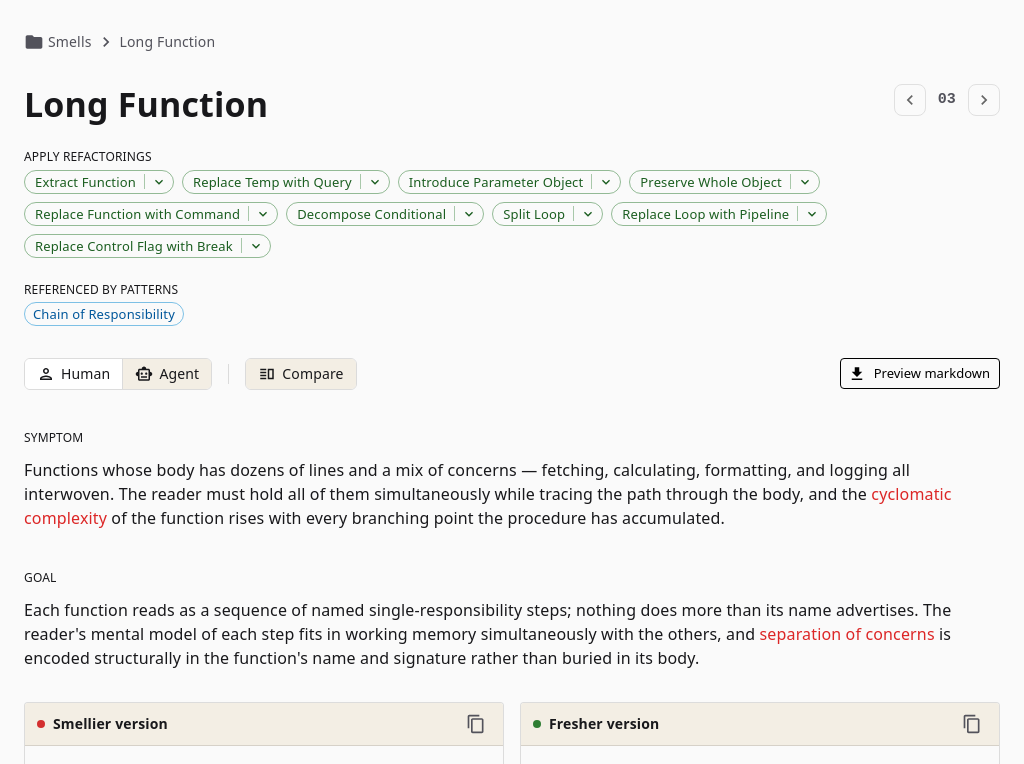
Scenario: user drills three levels deep via the chevron without losing chevrons › renders chevrons on chips inside a popover inside a popover
Click the button named "Extract Function cross-references": point(159, 182) [145, 171, 173, 193]
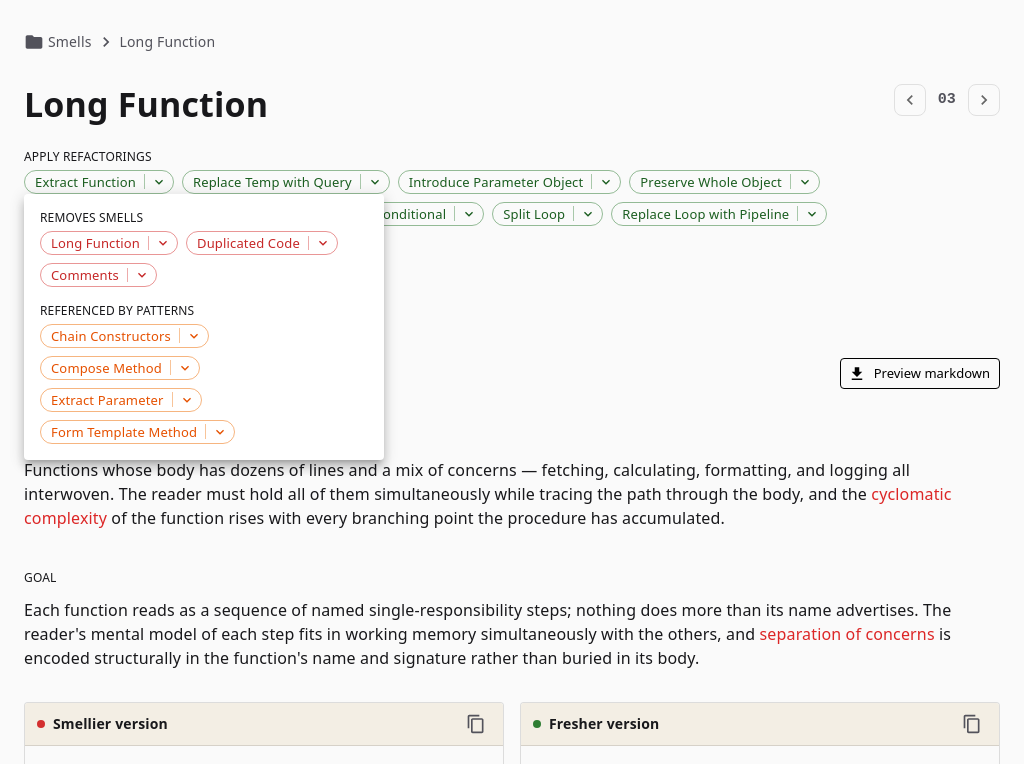
Click the button named "Long Function cross-references": point(163, 243) [149, 232, 177, 254]
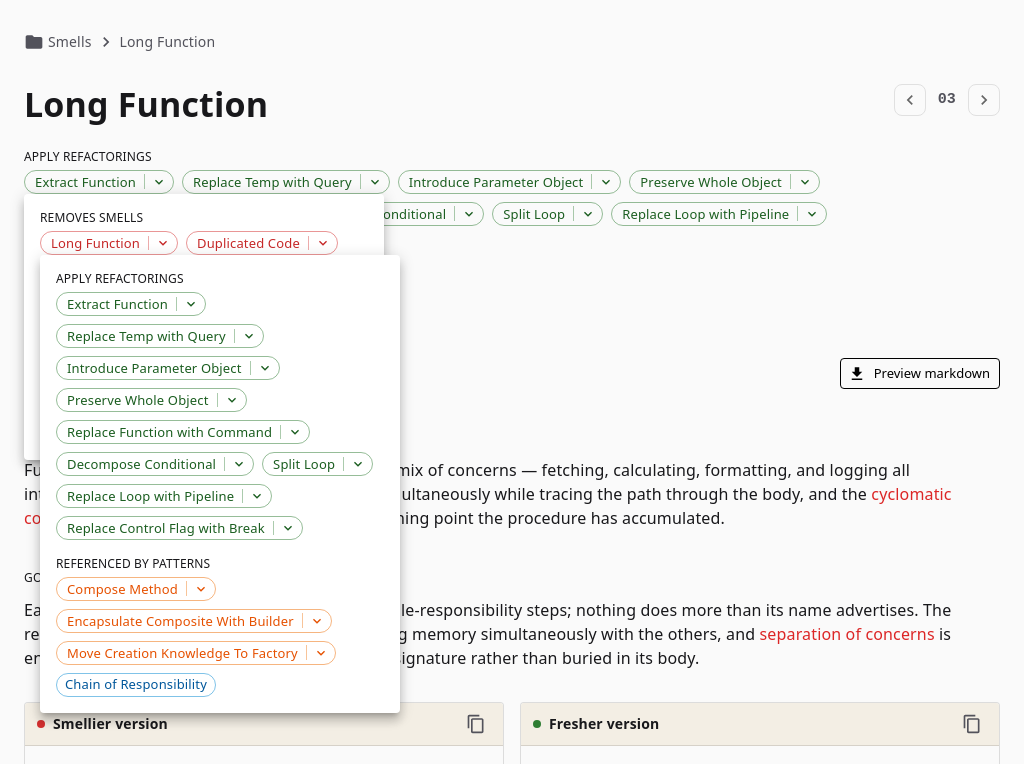
Click the button named "Replace Temp with Query cross-references": point(249, 336) [235, 325, 263, 347]
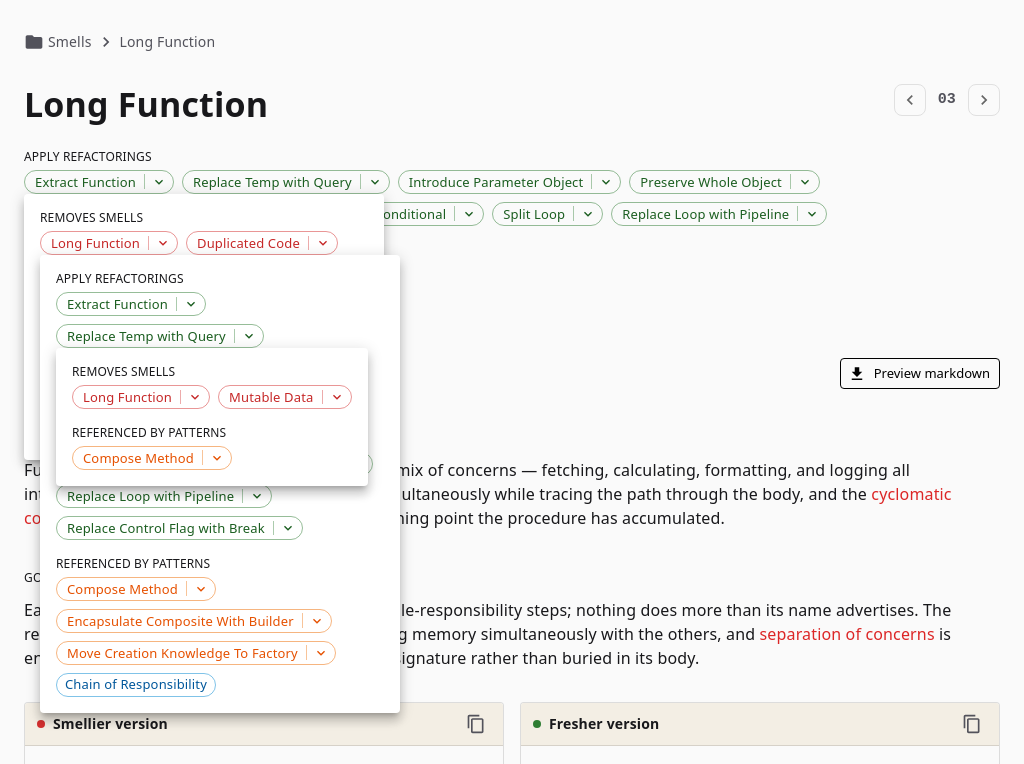
Now the text "Removes smells" is shown, box [72, 363, 175, 380]
